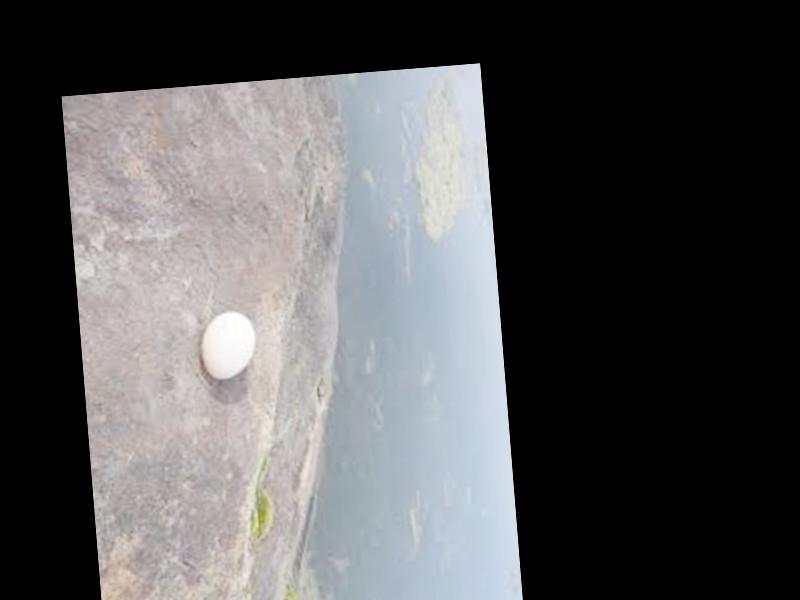Eggs: (199, 306, 259, 379)
